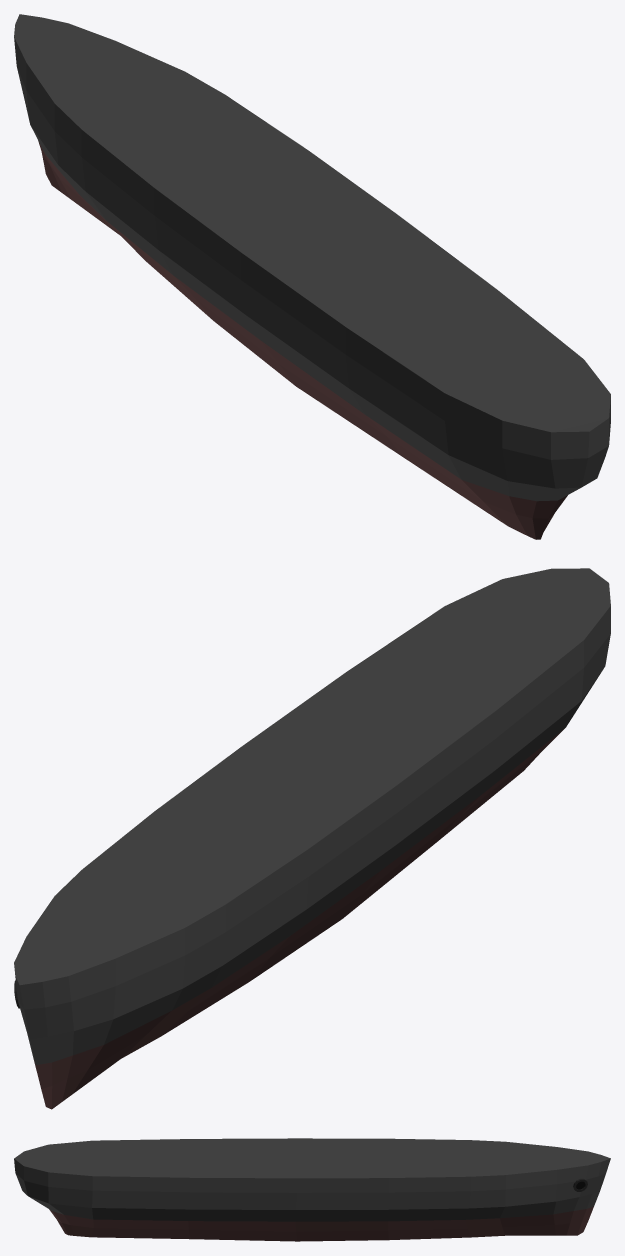
The model's file is ship.glb.
3 views of the same model, one above another, from view 1: azimuth 30°, elevation 25°; view 2: azimuth 150°, elevation 25°; view 3: azimuth 270°, elevation 25° (orthographic). The views are drawn at different scales.
Parts seen in each view (by area): view 1: ship-col; view 2: ship-col; view 3: ship-col.
Boxes of the visible parts, x1,y1,x2,y2 form: ship-col: (14,14,610,539); ship-col: (14,568,610,1109); ship-col: (14,1138,610,1241).
Bounding box in the file's own units: 5.53 × 5 × 34.93.
